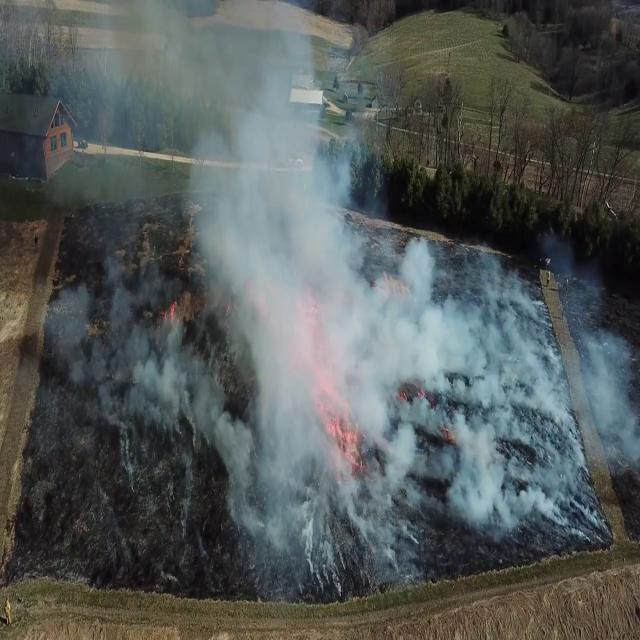Smoke: (113, 16, 640, 580), (19, 3, 508, 584)
